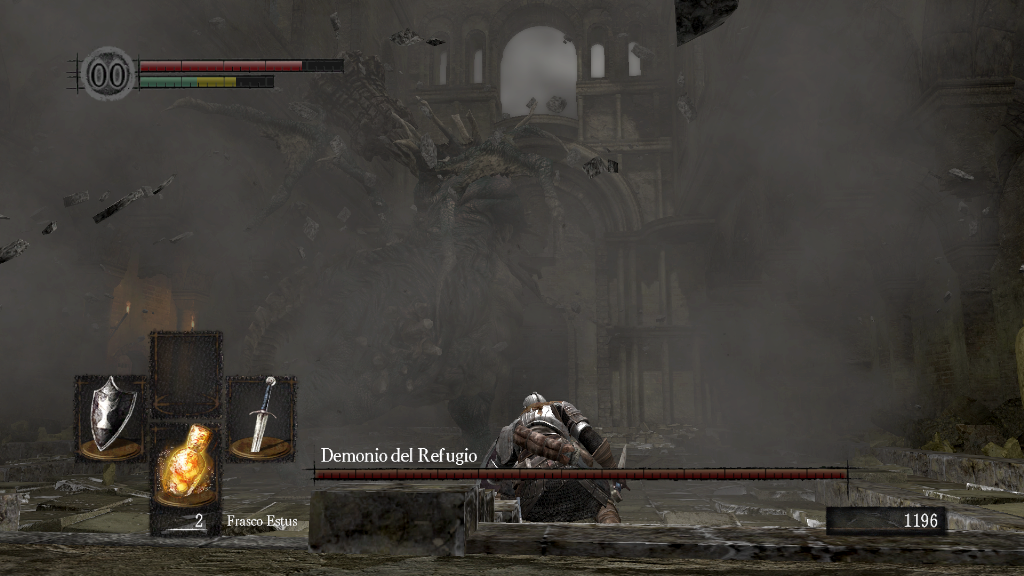bossHP: (314, 469, 847, 479)
health: (138, 58, 343, 71)
humanity: (80, 45, 136, 102)
player: (478, 392, 630, 527)
souls: (825, 506, 945, 536)
stamina: (138, 74, 274, 88)
